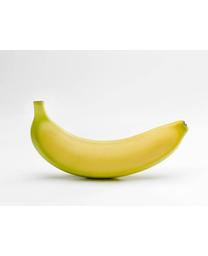banana: (29, 98, 189, 181)
